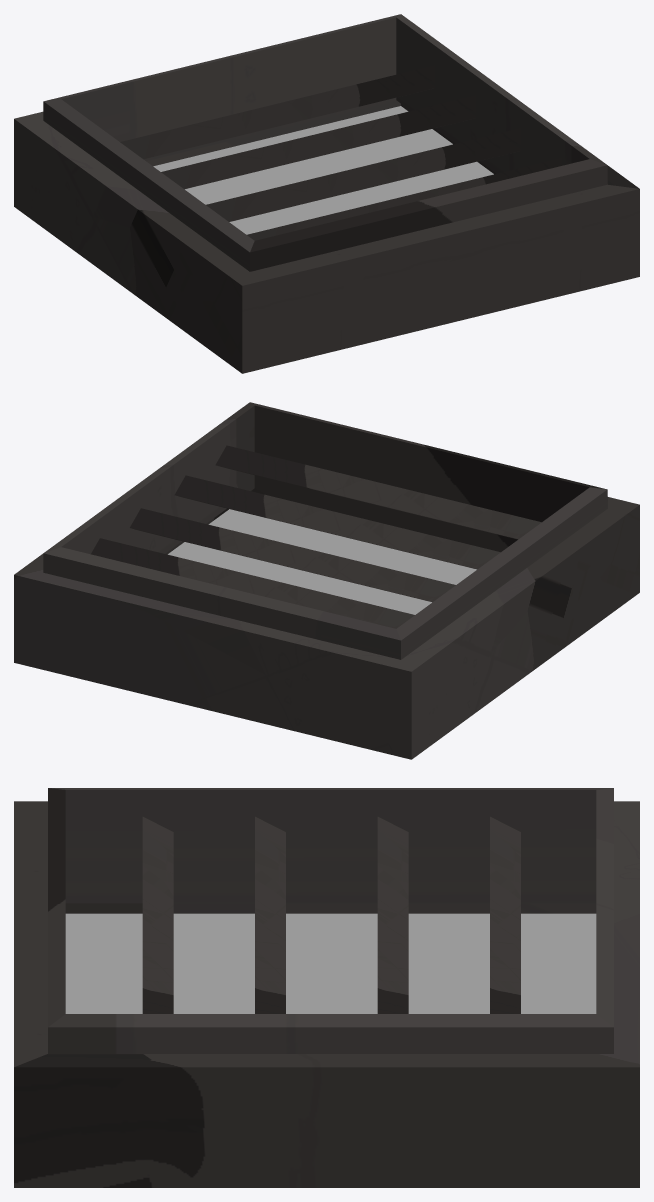
Rendered from gritpit.fbx.
3 renders of one model, top to bottom at view 1: azimuth 30°, elevation 25°; view 2: azimuth 150°, elevation 25°; view 3: azimuth 270°, elevation 25°, orthographic. The views are drawn at different scales.
Parts seen in each view (by area): view 1: gritpit; view 2: gritpit; view 3: gritpit.
Part boxes in pixels (left/top/right/bottom): gritpit: left=14, top=14, right=639, bottom=373; gritpit: left=14, top=402, right=639, bottom=759; gritpit: left=14, top=788, right=639, bottom=1187.
Size of the model in its own units: 99.02 by 26.56 by 98.5.
